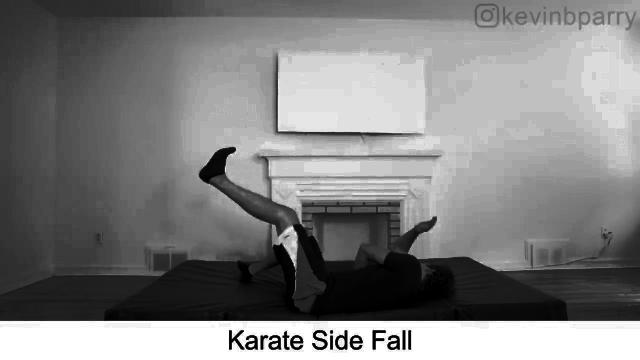jatuh: (198, 138, 462, 316)
